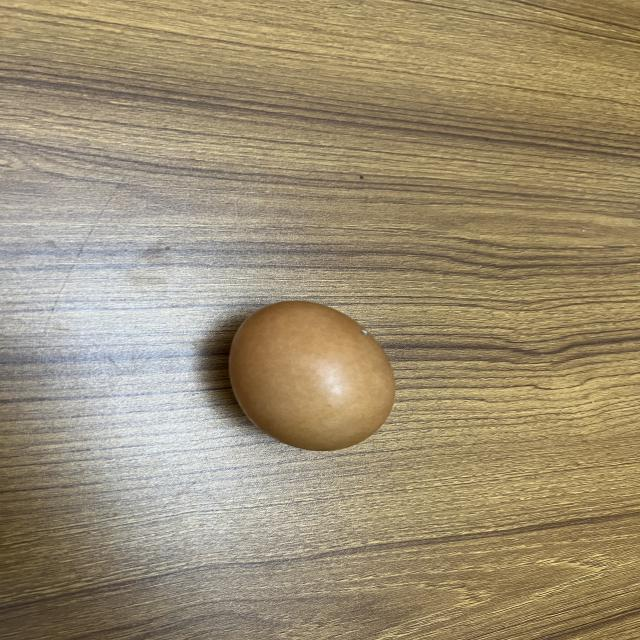Egg: (217, 298, 407, 458)
